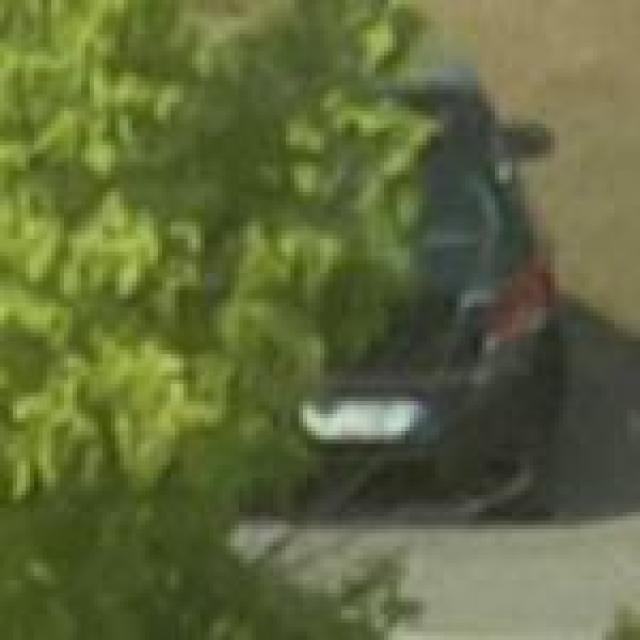cars-sUYr: (219, 62, 567, 533)
